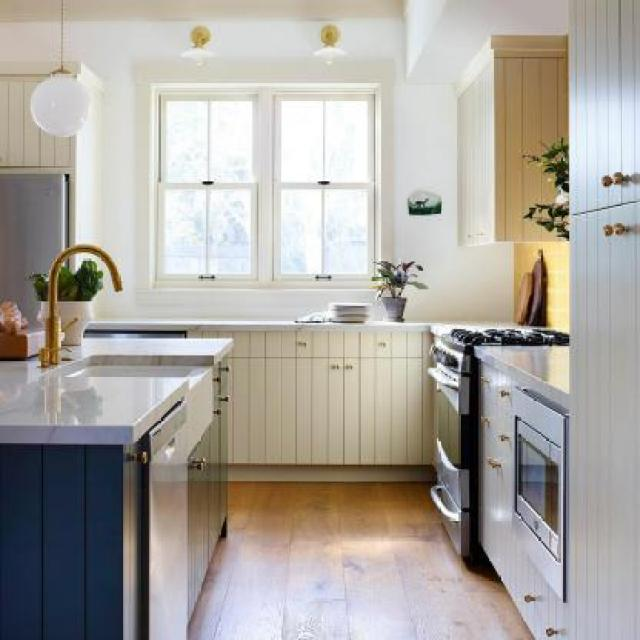Floor: (188, 480, 533, 640)
